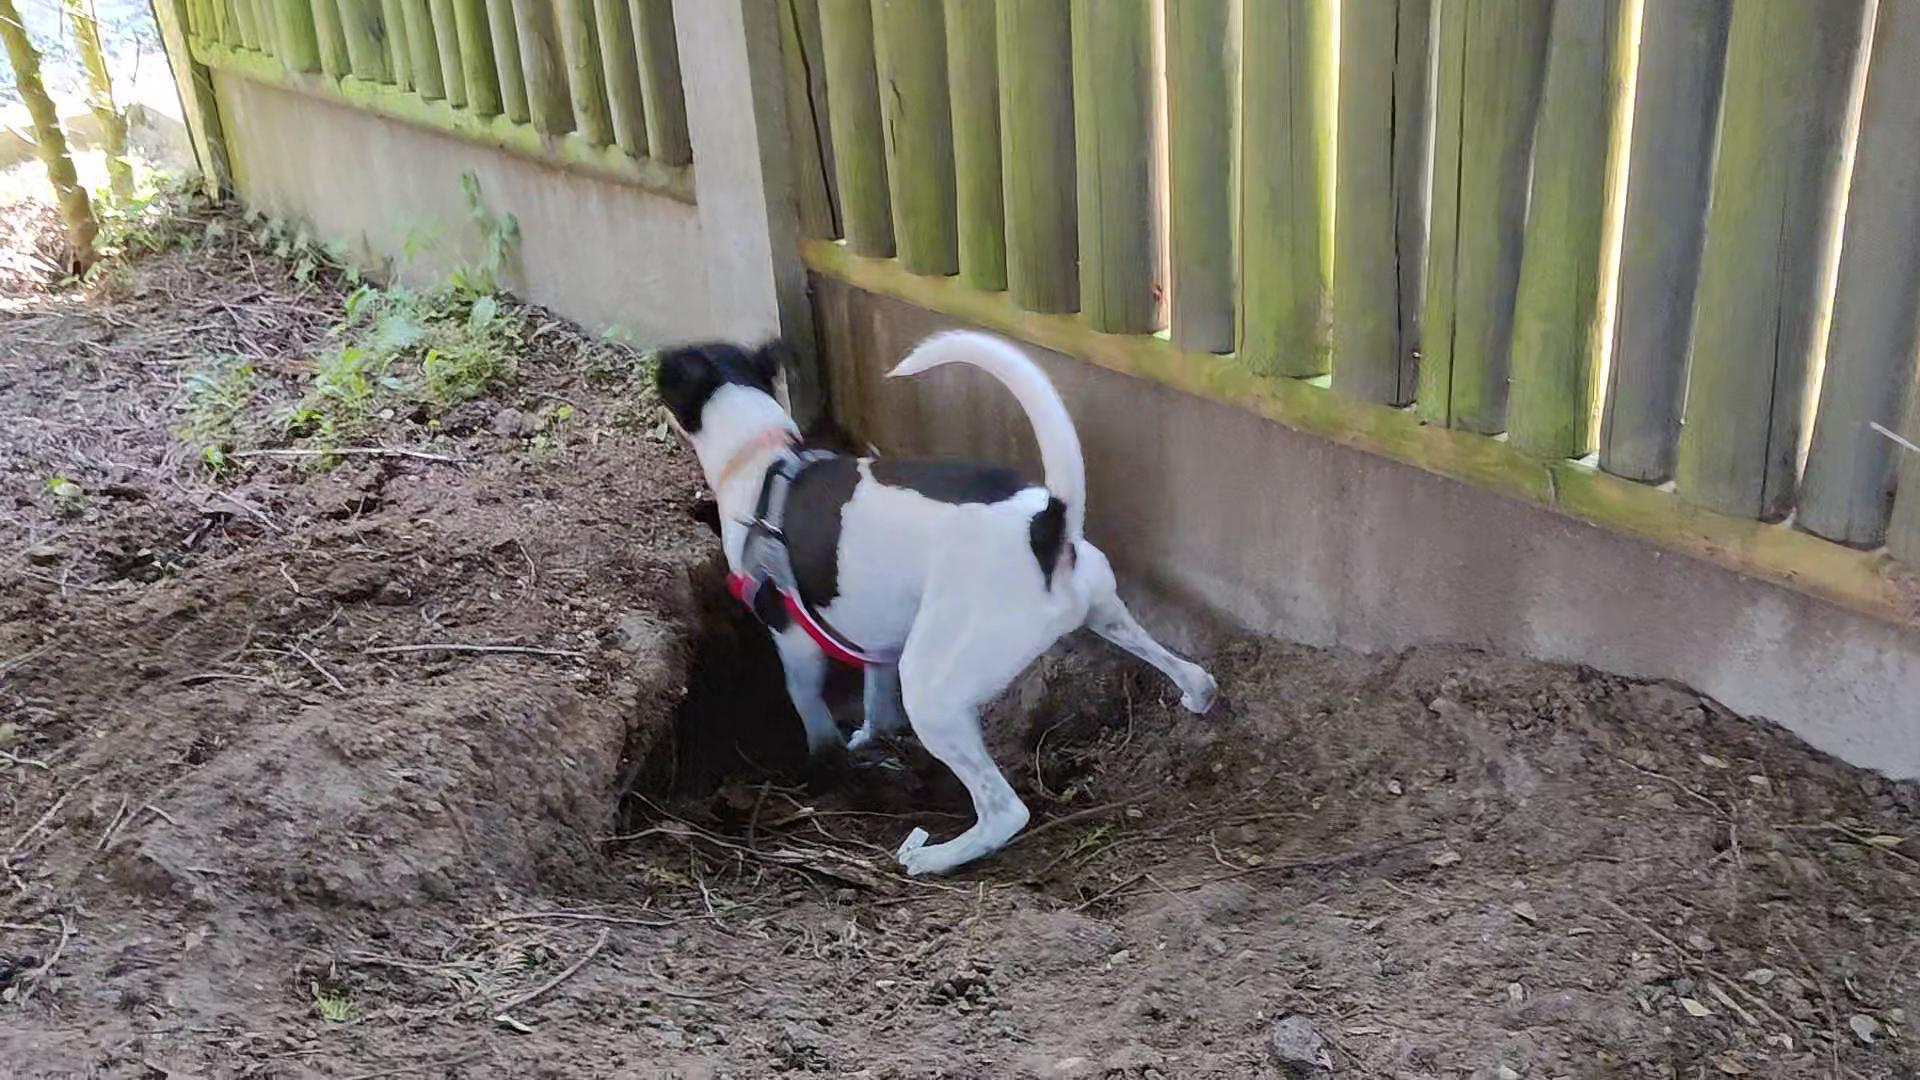Dog: (640, 323, 1216, 886)
